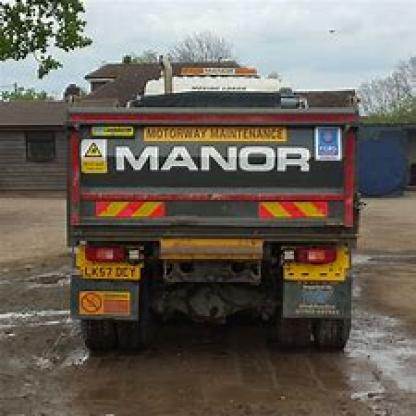dump_truck: (64, 50, 372, 368)
